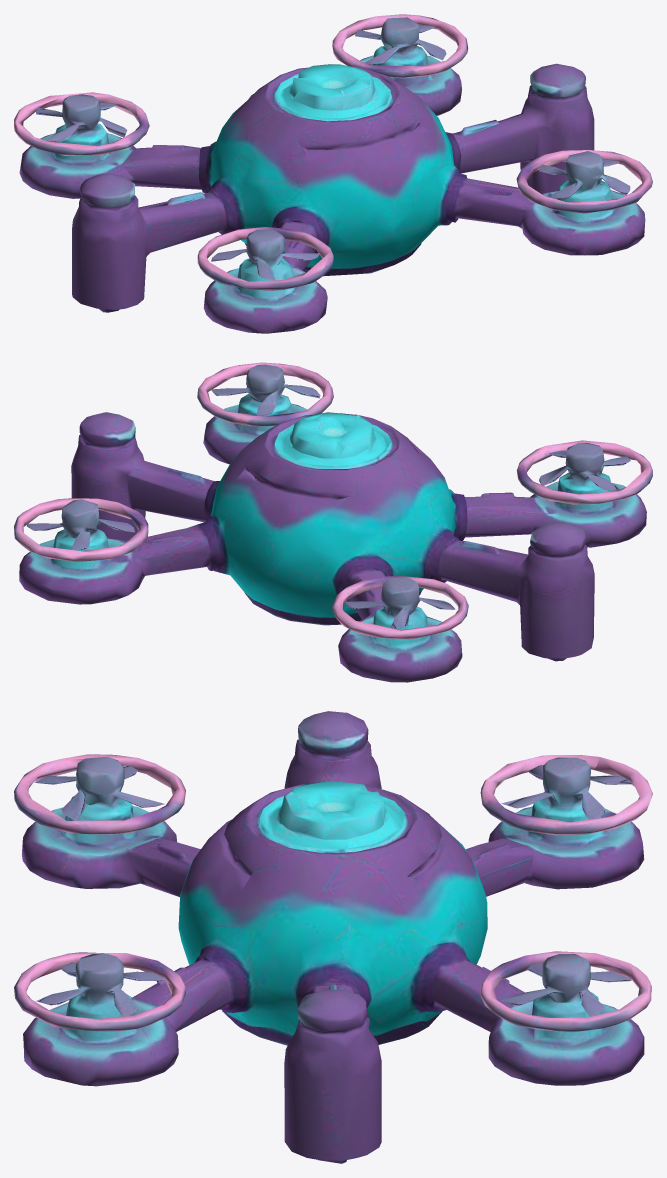
Rendered from alien-d-512.glb.
3 renders of one model, top to bottom at view 1: azimuth 30°, elevation 25°; view 2: azimuth 150°, elevation 25°; view 3: azimuth 270°, elevation 25°, orthographic. The views are drawn at different scales.
Bounding box in the file's own units: 1.9 × 0.6258 × 1.62.
Materials: 1 (1 with a texture image).
